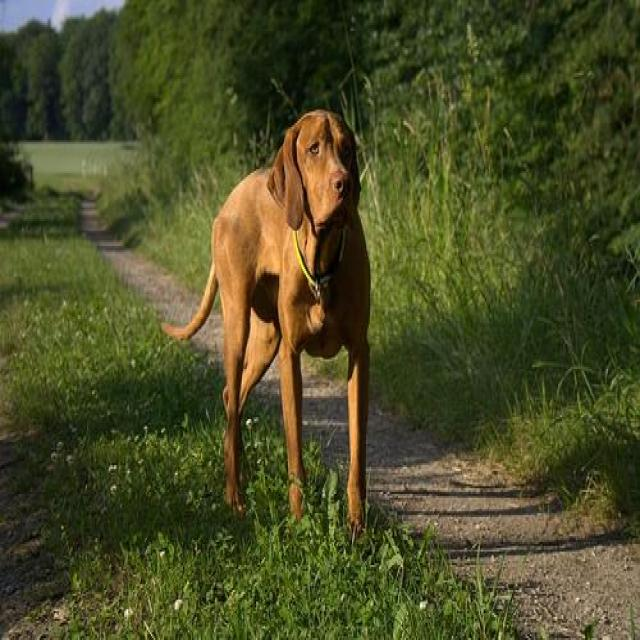vizsla: (150, 98, 382, 542)
